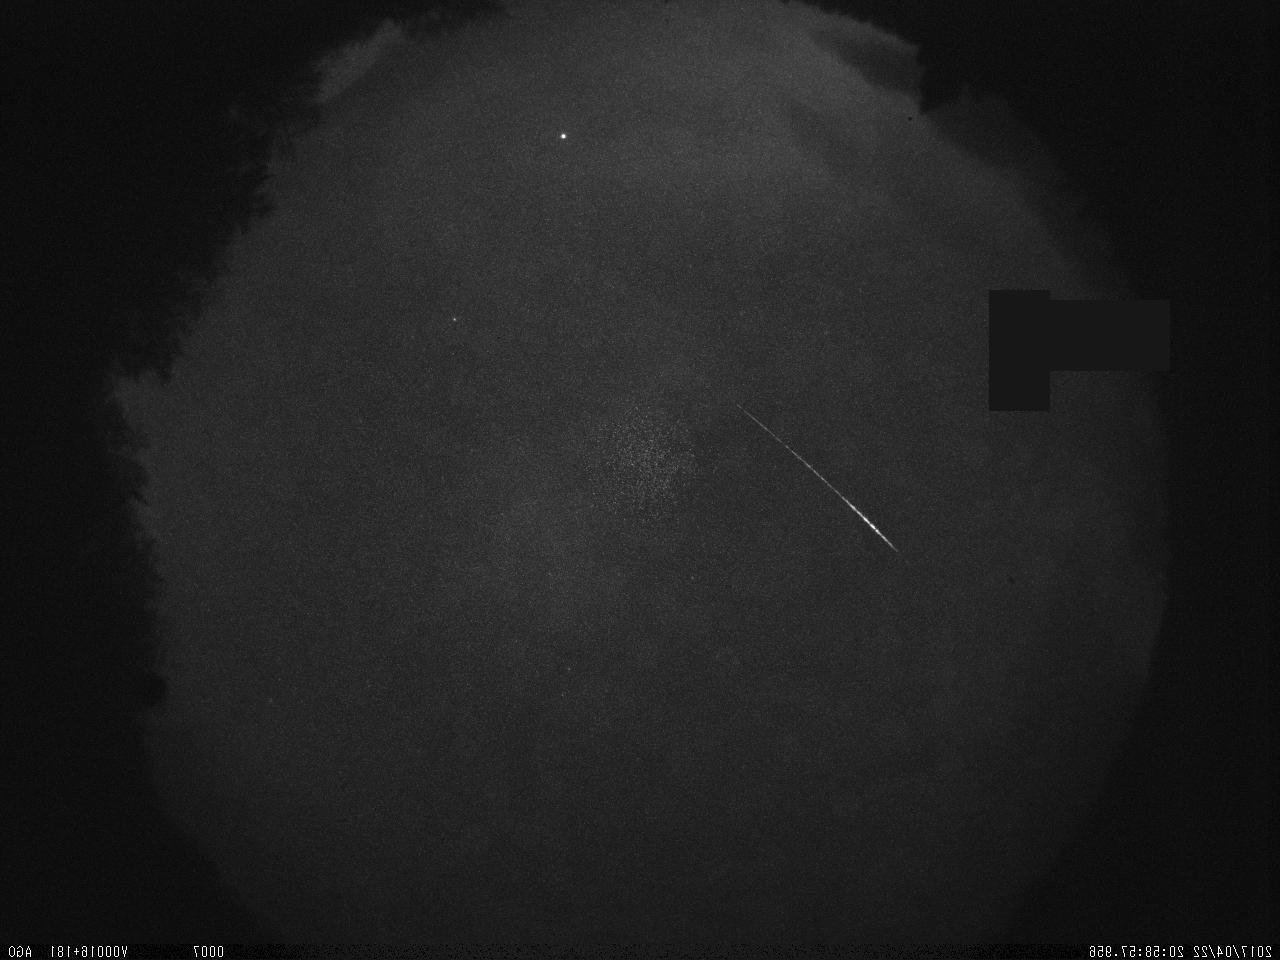meteor: (681, 357, 927, 608)
